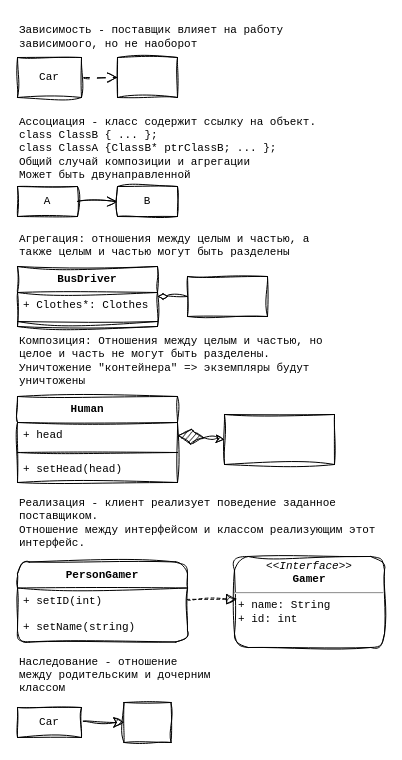
Image size: 402x760. Some labels were removed from this diagram. Each missing label, with the centre of its shape:
Clothes: [227,296]
Head: [279,439]
Oil: [147,77]
Taxi: [147,722]
